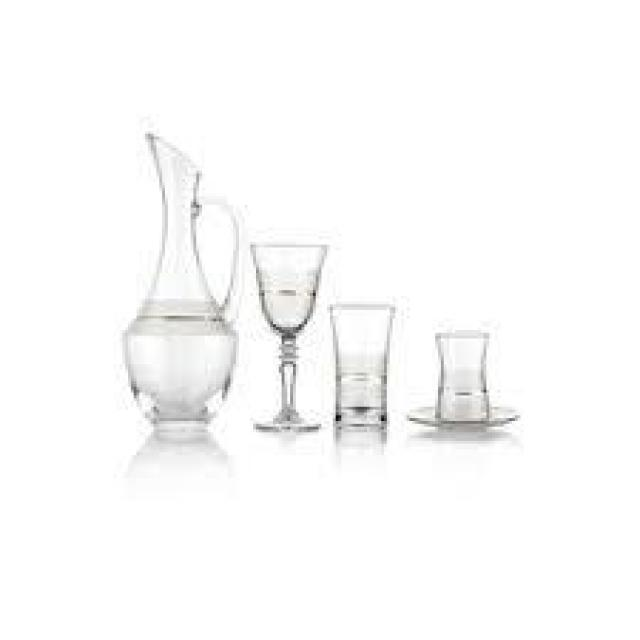non-organic waste: (118, 131, 243, 435), (249, 243, 328, 434), (408, 330, 522, 429), (326, 302, 396, 432)
